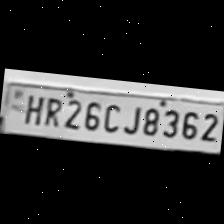2: (59, 93, 83, 130), (198, 106, 220, 142)
3: (159, 104, 180, 138)
6: (80, 96, 102, 132), (178, 106, 201, 140)
8: (138, 102, 160, 136)
C: (100, 97, 122, 132)
H: (20, 90, 44, 126)
J: (120, 100, 141, 134)
R: (40, 92, 62, 128)
